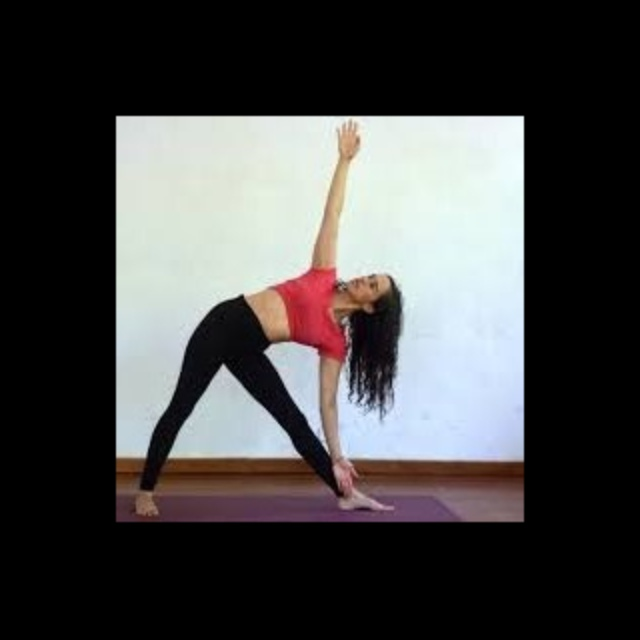Triangle_Pose: (118, 117, 410, 519)
